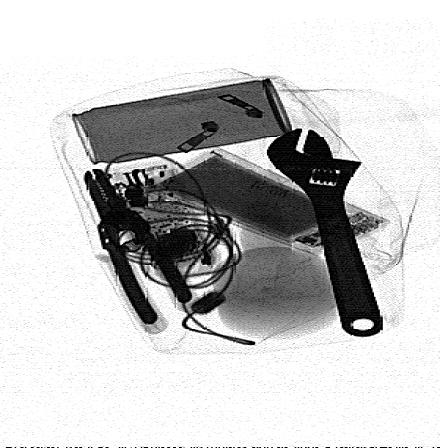Pliers: (79, 167, 192, 326)
Powerbank: (141, 146, 394, 258)
Wrench: (262, 127, 383, 338)
